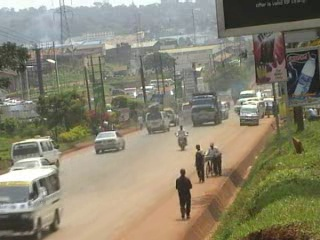Car: (7, 153, 59, 181), (90, 128, 125, 155)
Motorcycle: (173, 123, 190, 151)
